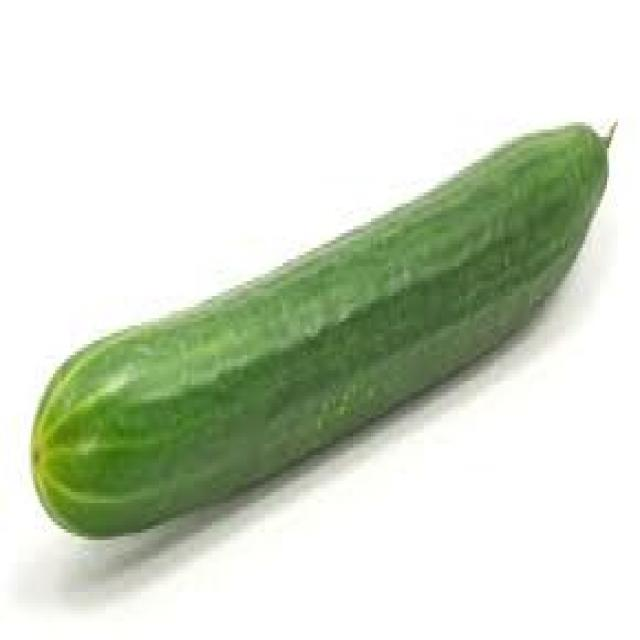organic waste: (29, 122, 614, 540)
